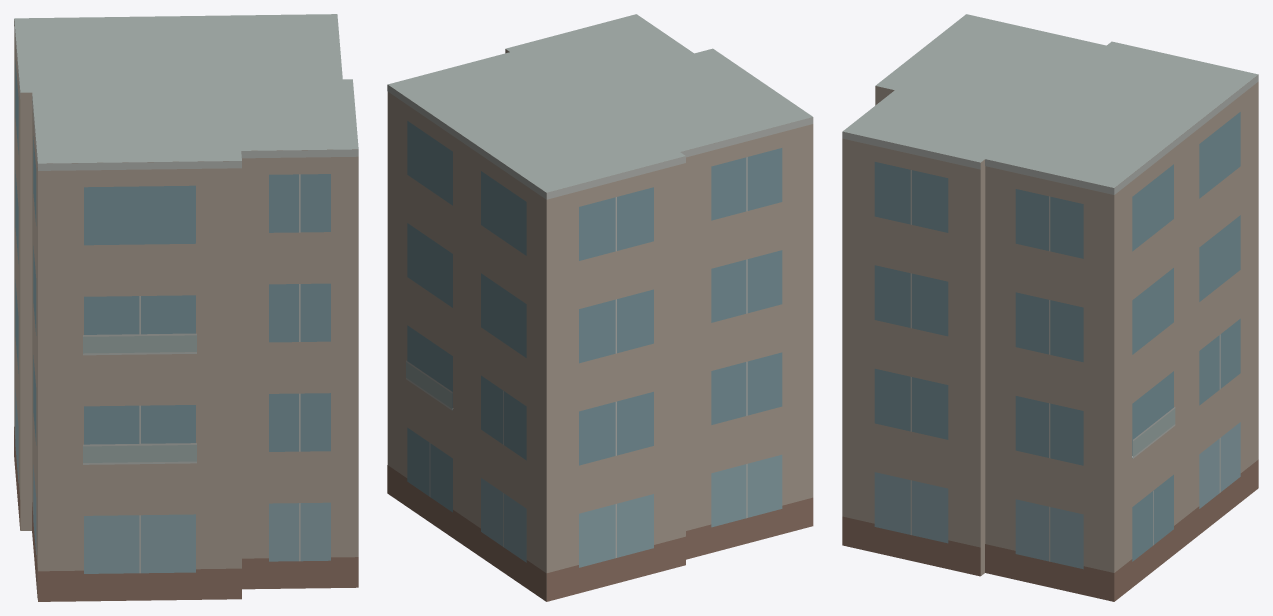
The model's file is survey-upis-32544418.glb.
3 renders of one model, left to right at view 1: azimuth 30°, elevation 25°; view 2: azimuth 150°, elevation 25°; view 3: azimuth 270°, elevation 25°, orthographic. The views are drawn at different scales.
Visible parts, largest first — view 1: survey-upis-32544418.tmp; view 2: survey-upis-32544418.tmp; view 3: survey-upis-32544418.tmp.
Boxes of the visible parts, left/top/right/bottom form: survey-upis-32544418.tmp: left=14, top=14, right=358, bottom=601; survey-upis-32544418.tmp: left=387, top=14, right=813, bottom=601; survey-upis-32544418.tmp: left=842, top=14, right=1258, bottom=601.
Size of the model in its own units: 13 by 14.4 by 13.13.
